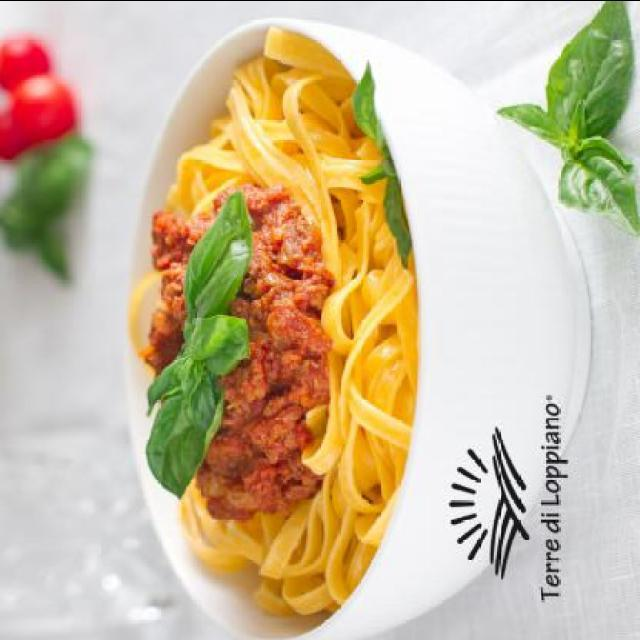Pasta al ragu: (95, 13, 423, 630)
